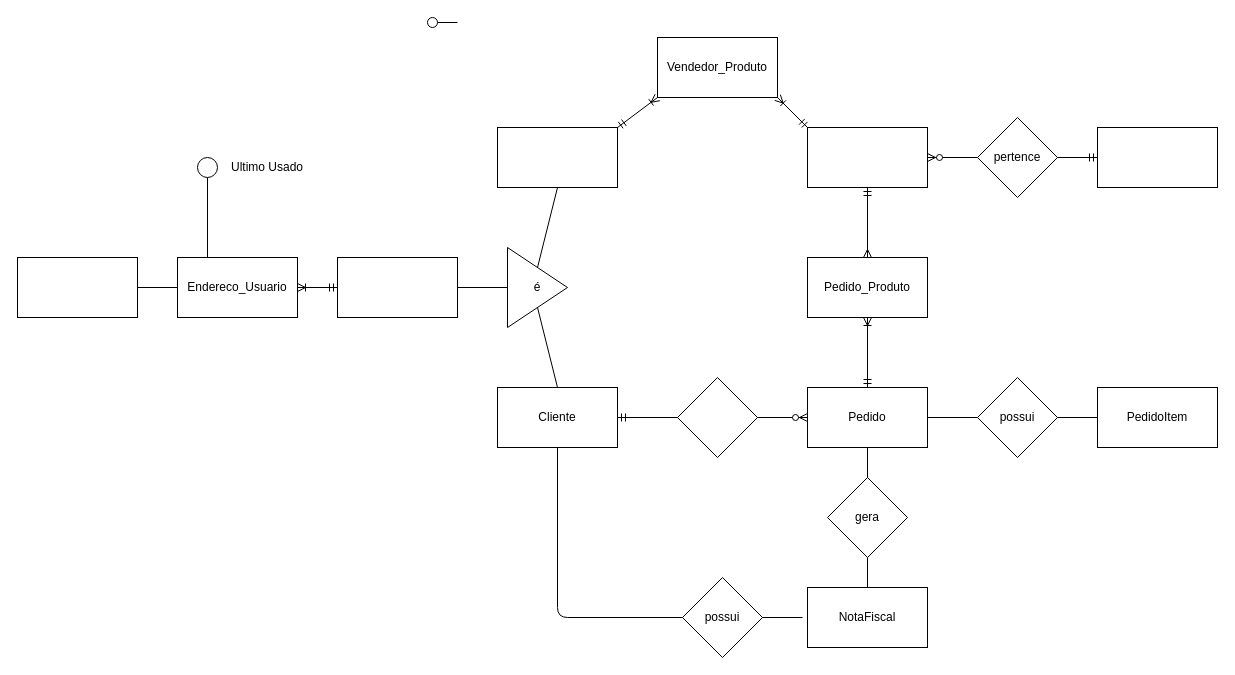
Image size: 1235x675. Some labels were removed from this diagram. The box of each missing label's shape, as (x1, y1, x2, y2) in pixels:
Categoria: (1096, 126, 1218, 188)
Endereco: (16, 256, 138, 318)
Produto: (806, 126, 928, 188)
realiza: (676, 376, 758, 458)
Usuario: (336, 256, 458, 318)
Vendedor: (496, 126, 618, 188)
